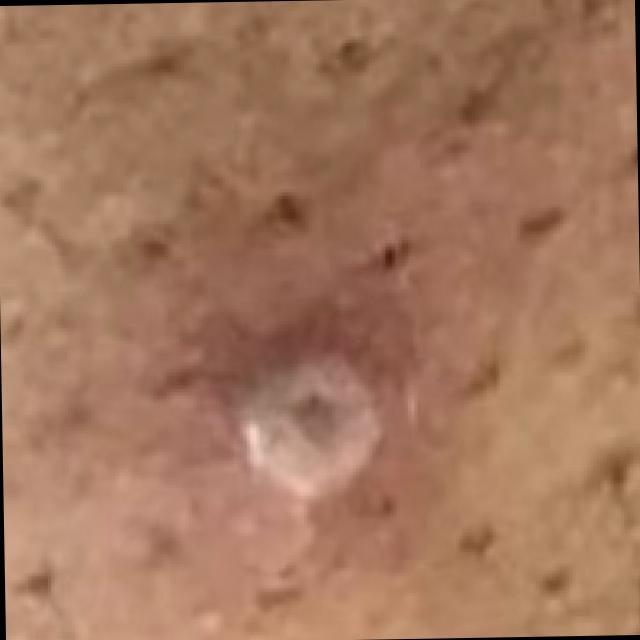Eczema: (212, 328, 392, 500)
